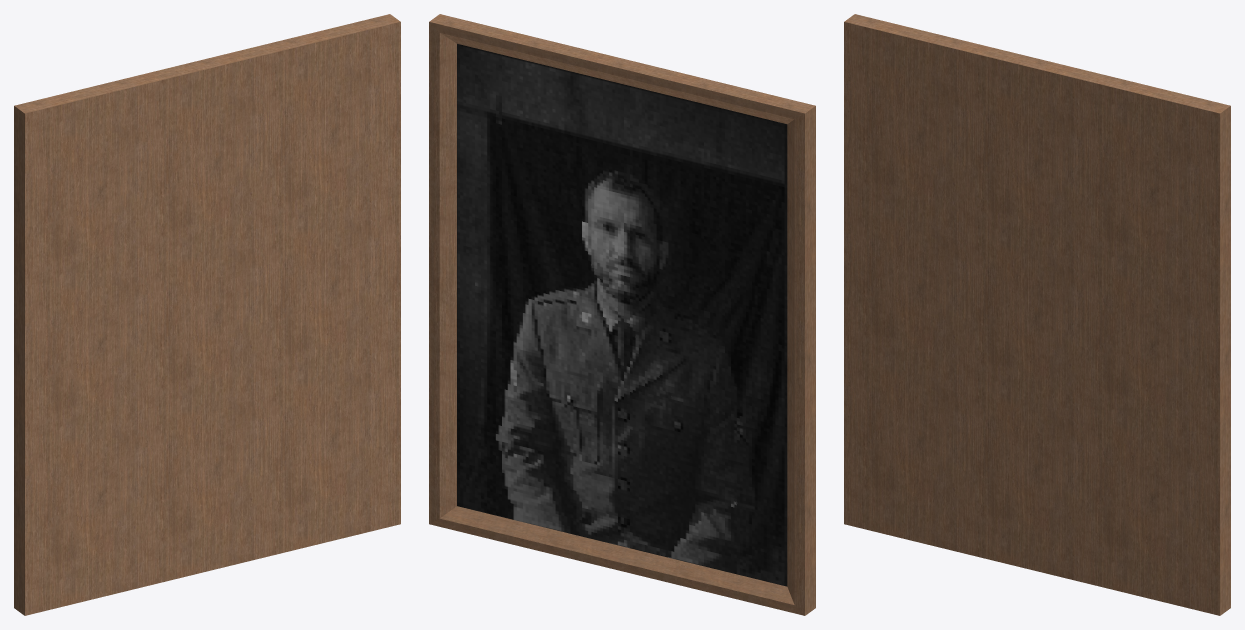
File: aquiles_portrait.glb
3 renders of one model, left to right at view 1: azimuth 30°, elevation 25°; view 2: azimuth 150°, elevation 25°; view 3: azimuth 330°, elevation 25°, orthographic.
Parts seen in each view (by area): view 1: Aquiles; view 2: Aquiles; view 3: Aquiles.
Part boxes in pixels (x1,y1,x2,y2): Aquiles: (14, 14, 400, 615); Aquiles: (429, 14, 815, 615); Aquiles: (844, 14, 1230, 615).
Bounding box in the file's own units: 1.02 × 1.3 × 0.0505.
Materials: 2 (2 with a texture image).
